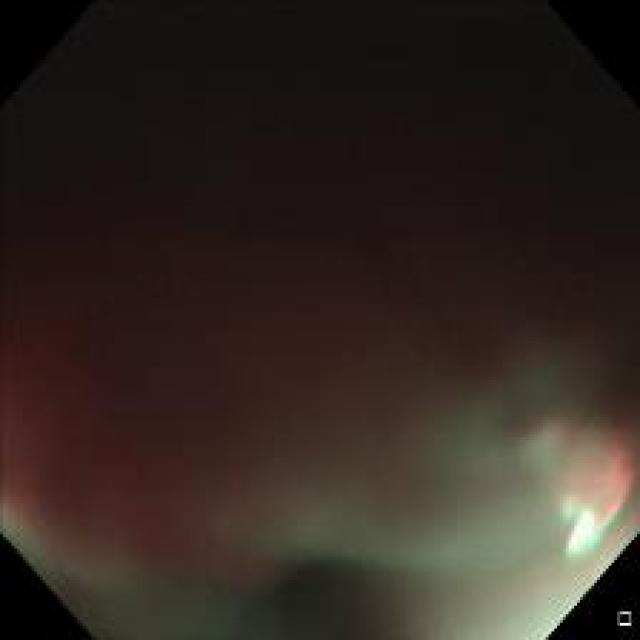color misalignment: (4, 6, 631, 631), (521, 399, 634, 566)
contrast: (8, 6, 624, 560), (242, 549, 409, 622)
